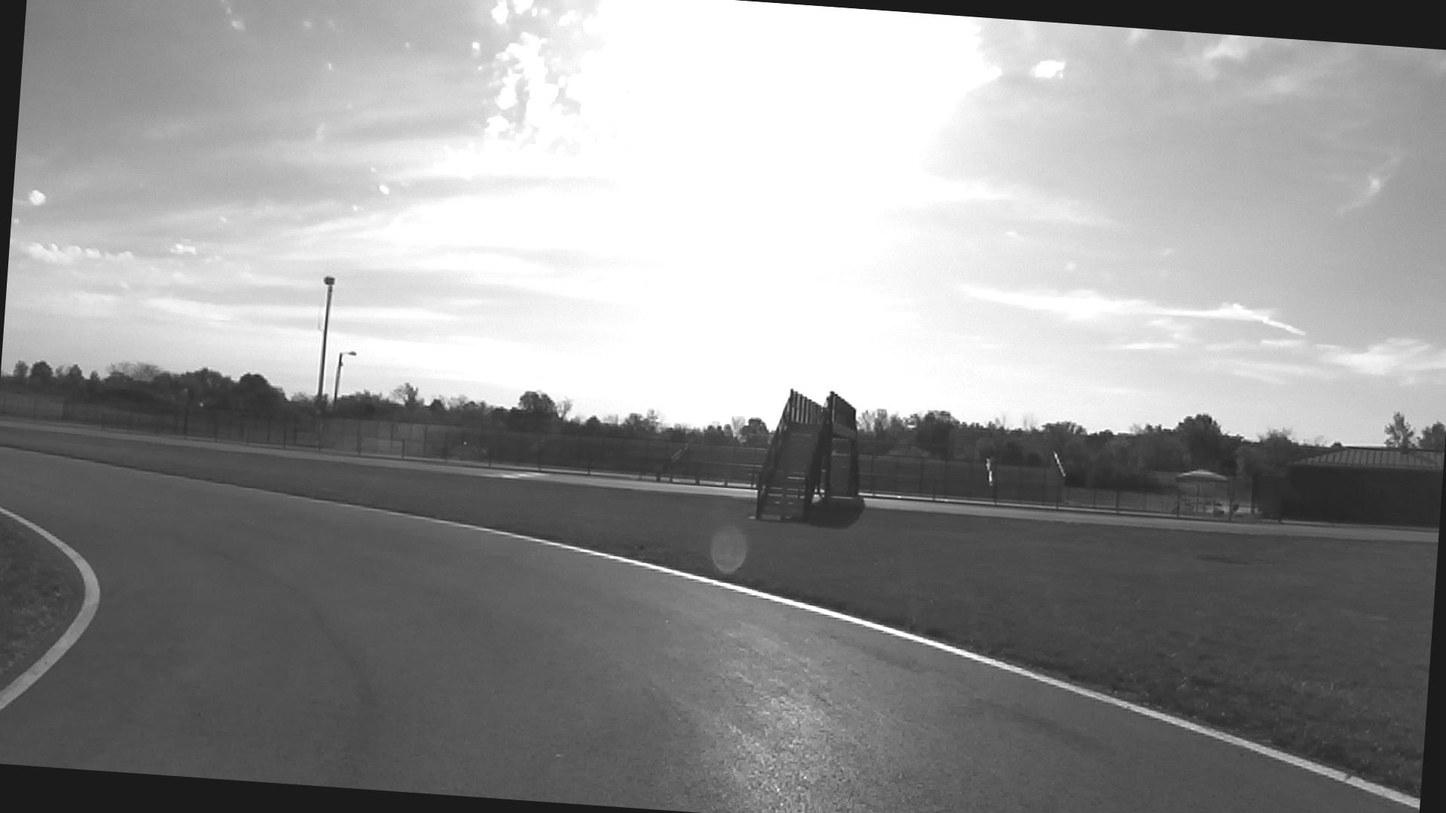white-line: (191, 480, 1420, 810), (0, 506, 100, 709)
